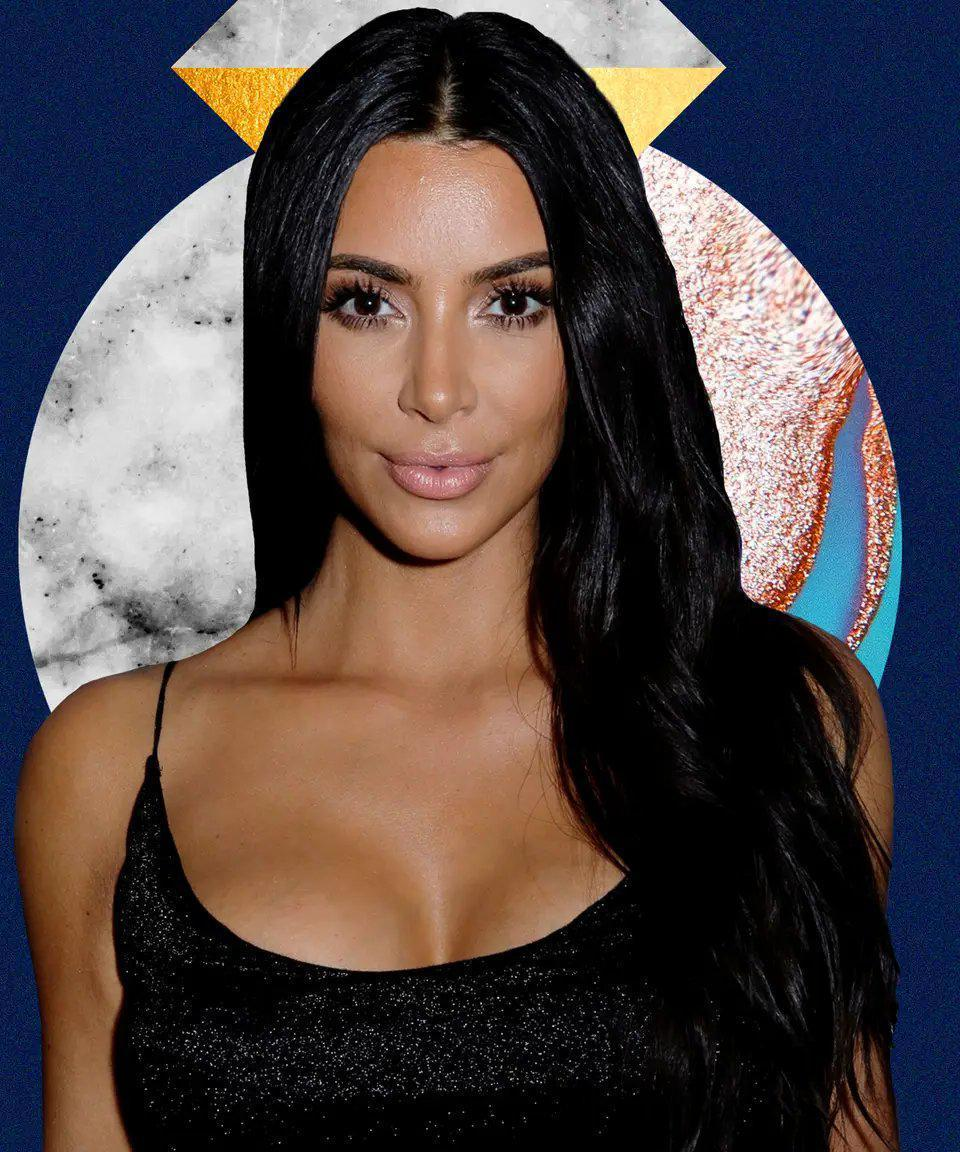Sober: (316, 126, 557, 535)
